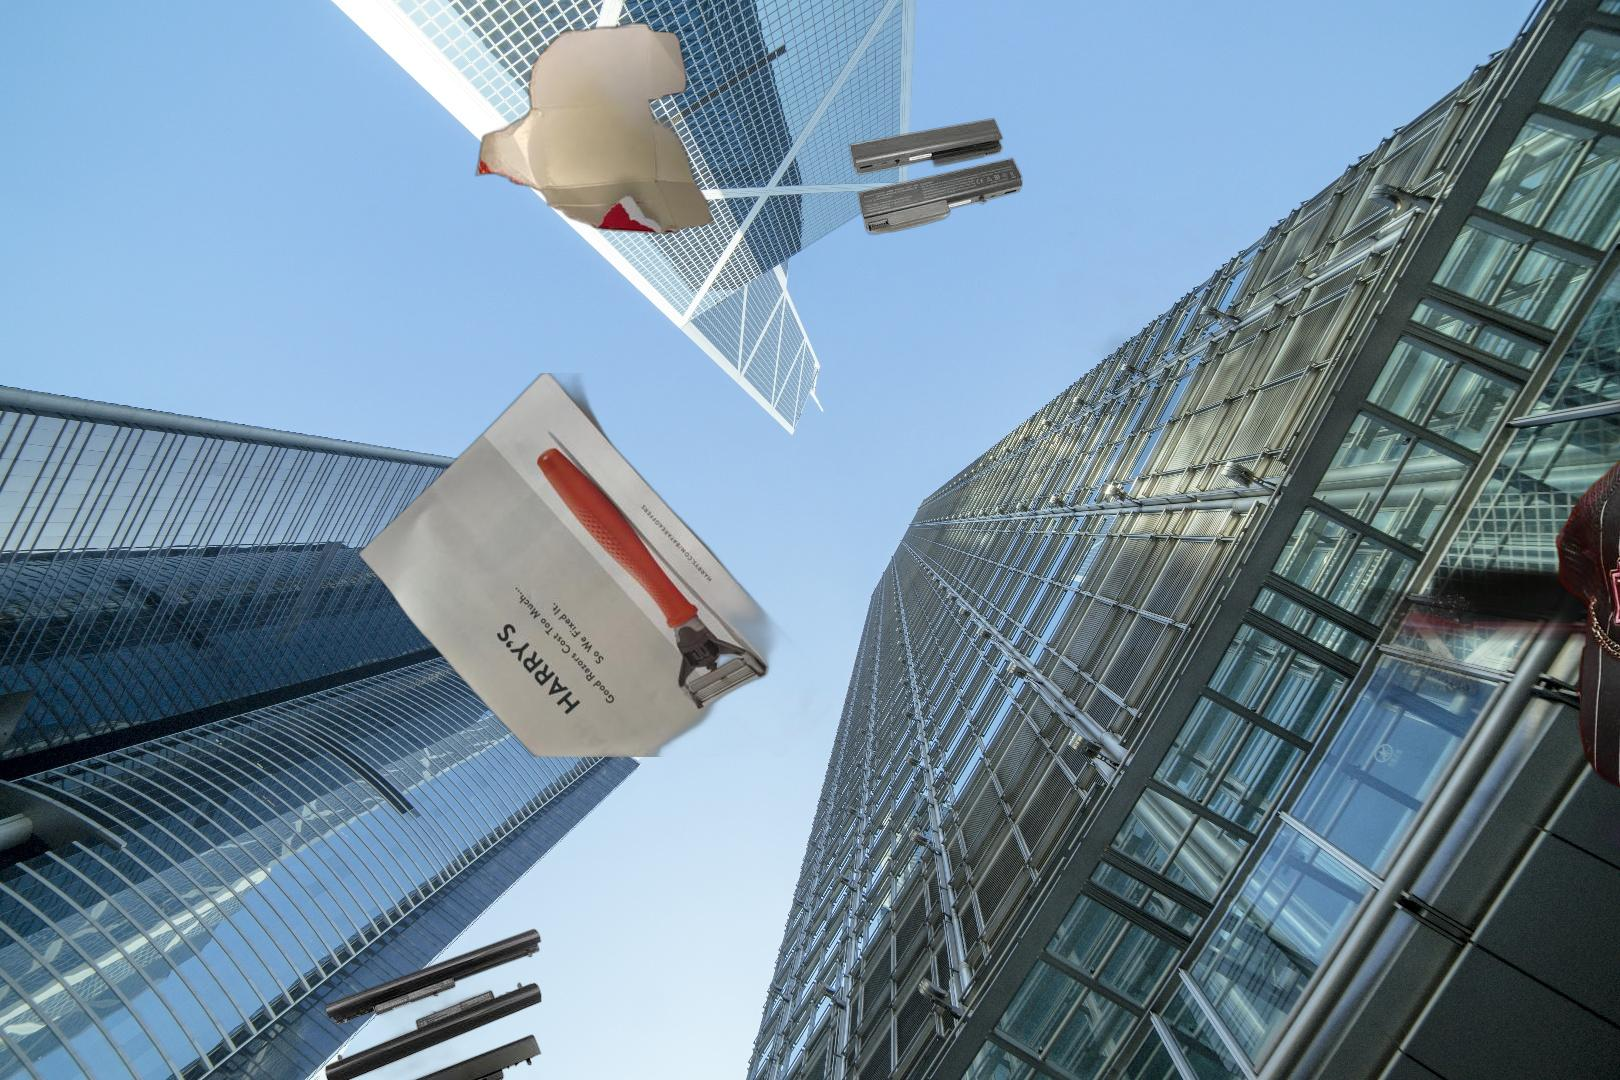battery: (322, 922, 544, 1080), (847, 115, 1025, 237)
clothes: (1554, 416, 1620, 842)
paper: (354, 373, 849, 757), (472, 19, 717, 236)
trashbox-cardboard: (1055, 160, 1620, 921)
